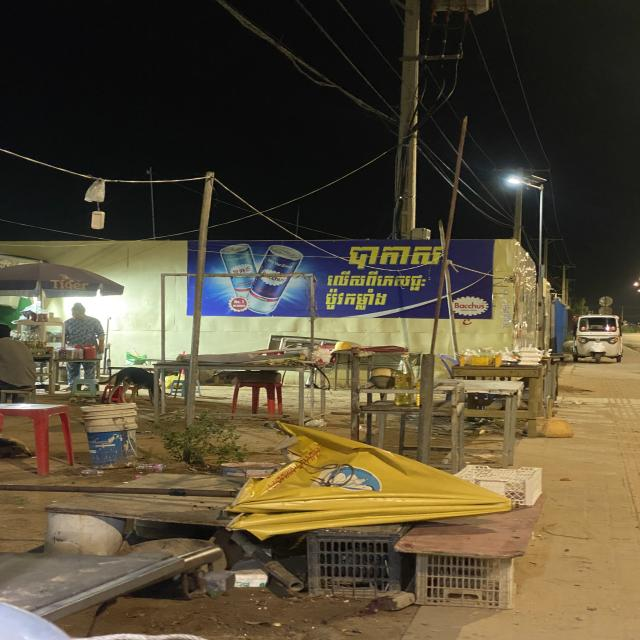Yolov11_80vkh: (341, 243, 455, 273), (322, 268, 428, 292), (319, 287, 400, 313)
